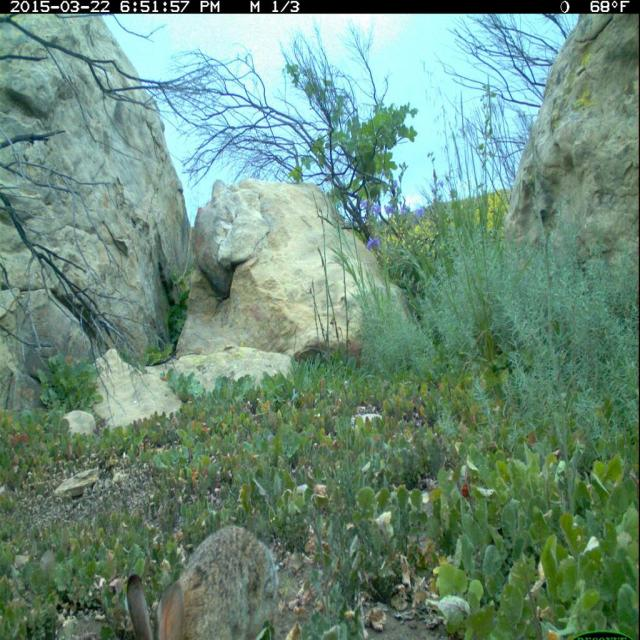rabbit: (120, 518, 285, 640)
